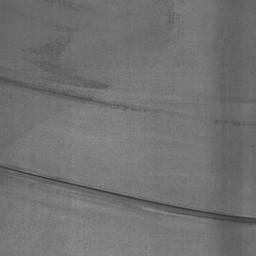Crease: (0, 165, 256, 224), (0, 76, 163, 113), (39, 62, 108, 89)
